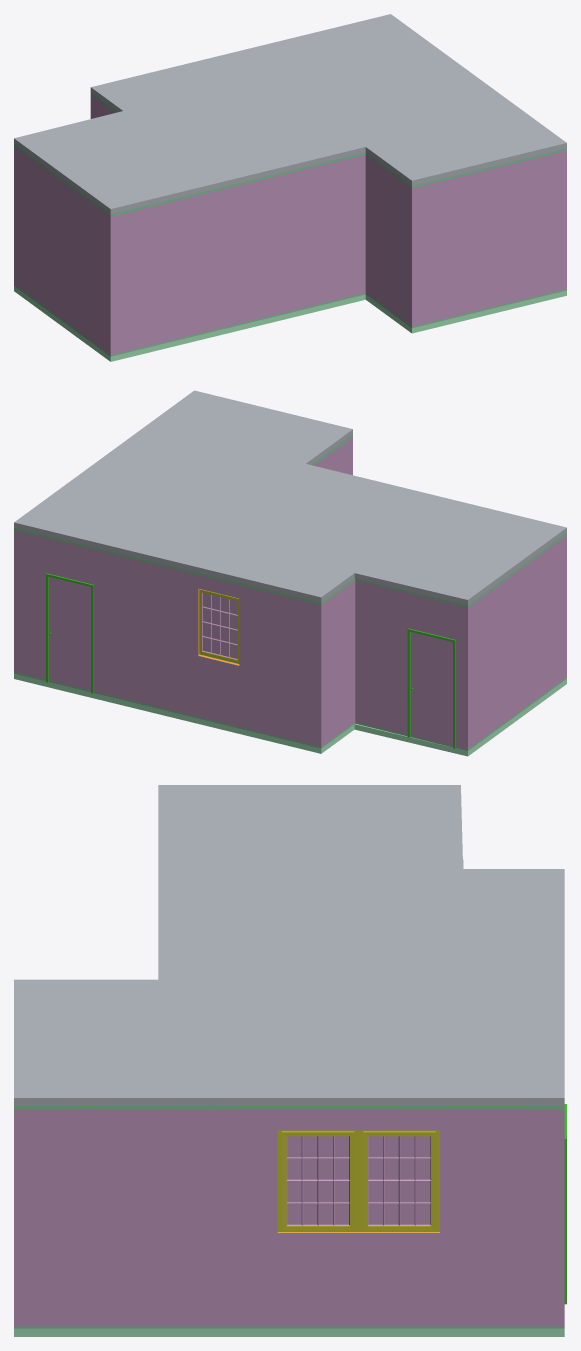
Rendered from FloorPlan7_physics.fbx.
3 renders of one model, top to bottom at view 1: azimuth 30°, elevation 25°; view 2: azimuth 150°, elevation 25°; view 3: azimuth 270°, elevation 25°, orthographic. The views are drawn at different scales.
Visible parts, largest first — view 1: StandardWallSize, Ceiling, Floor; view 2: StandardWallSize, Ceiling, Floor, Glass, StandardDoorFrame1, StandardDoorFrame1 (2), StandardWindow1 (3); view 3: Ceiling, StandardWallSize, Glass (2), Glass (3), Floor, StandardWindow1, StandardWindow1 (2), WindowDetail (3), WindowTreatment2 (2), WindowTreatment2, WindowDetail (2).
Part boxes in pixels (x1=…): StandardWallSize: x1=14, y1=92, x2=566, y2=356; Ceiling: x1=14, y1=14, x2=566, y2=213; Floor: x1=14, y1=286, x2=566, y2=361; StandardWallSize: x1=14, y1=434, x2=566, y2=750; Ceiling: x1=14, y1=390, x2=566, y2=605; Floor: x1=14, y1=673, x2=566, y2=756; Glass: x1=203, y1=593, x2=237, y2=658; StandardDoorFrame1: x1=407, y1=628, x2=455, y2=748; StandardDoorFrame1 (2): x1=46, y1=573, x2=93, y2=693; StandardWindow1 (3): x1=199, y1=589, x2=239, y2=663; Ceiling: x1=14, y1=785, x2=564, y2=1105; StandardWallSize: x1=14, y1=1105, x2=564, y2=1328; Glass (2): x1=368, y1=1136, x2=430, y2=1224; Glass (3): x1=287, y1=1136, x2=348, y2=1224; Floor: x1=14, y1=1328, x2=564, y2=1336; StandardWindow1: x1=363, y1=1131, x2=435, y2=1230; StandardWindow1 (2): x1=282, y1=1131, x2=354, y2=1230; WindowDetail (3): x1=286, y1=1136, x2=349, y2=1225; WindowTreatment2 (2): x1=277, y1=1130, x2=358, y2=1231; WindowTreatment2: x1=359, y1=1130, x2=439, y2=1231; WindowDetail (2): x1=368, y1=1136, x2=430, y2=1225.
Bounding box in the file's own units: 820 × 292 × 613.
